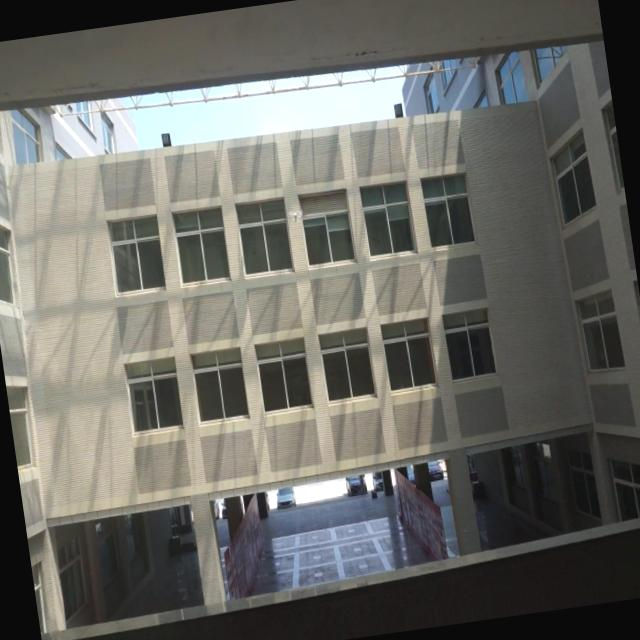drone: (286, 203, 306, 228)
